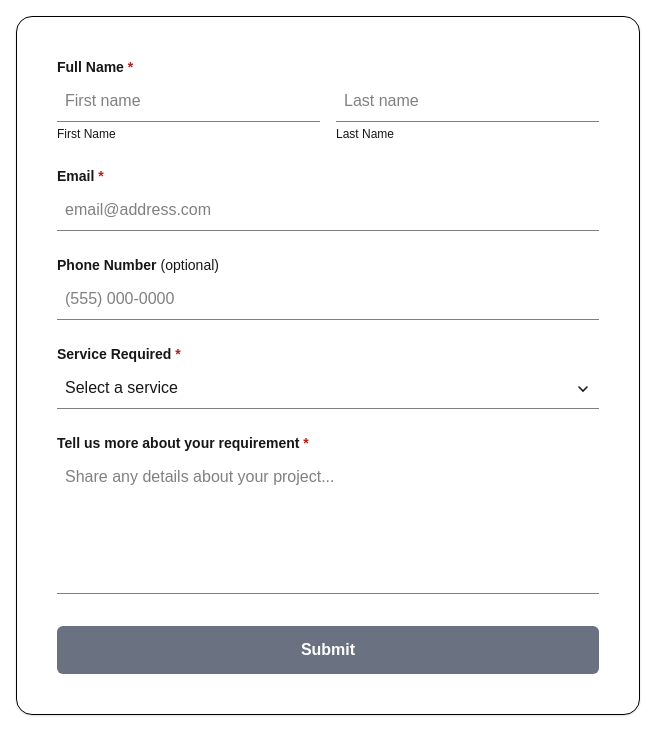
Test: ContactForm › submit button enables once all required fields contain valid data
The image size is (657, 733).
Type "James" into the field with placeholder "First Name" at (188, 102), box x1=57 y1=81 x2=320 y2=122
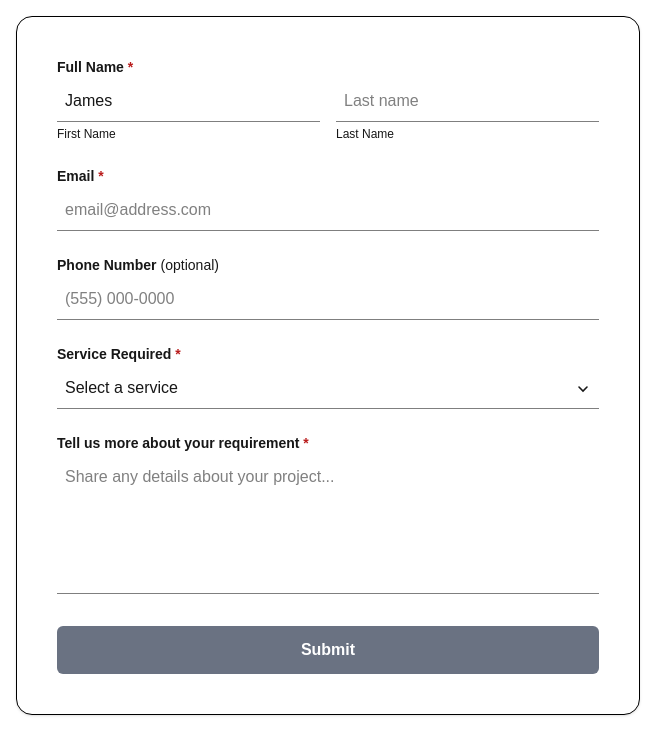
Type "Thomas" into the field with placeholder "Last Name" at (468, 102), box x1=336 y1=81 x2=599 y2=122
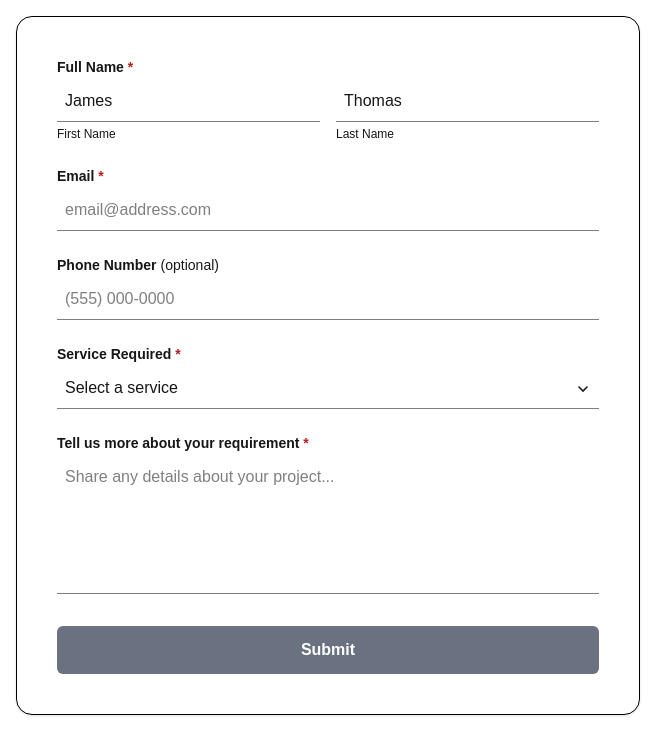
Type "james@example.com" into the field with placeholder "email@address.com" at (328, 210), box x1=57 y1=190 x2=599 y2=231
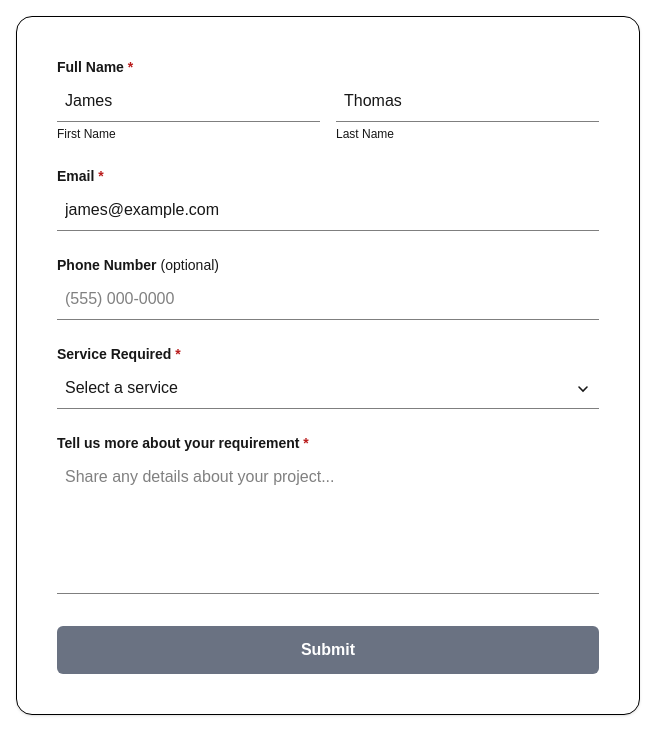
Select "Documentary Services" in the dropdown at (328, 388), box x1=57 y1=368 x2=599 y2=409
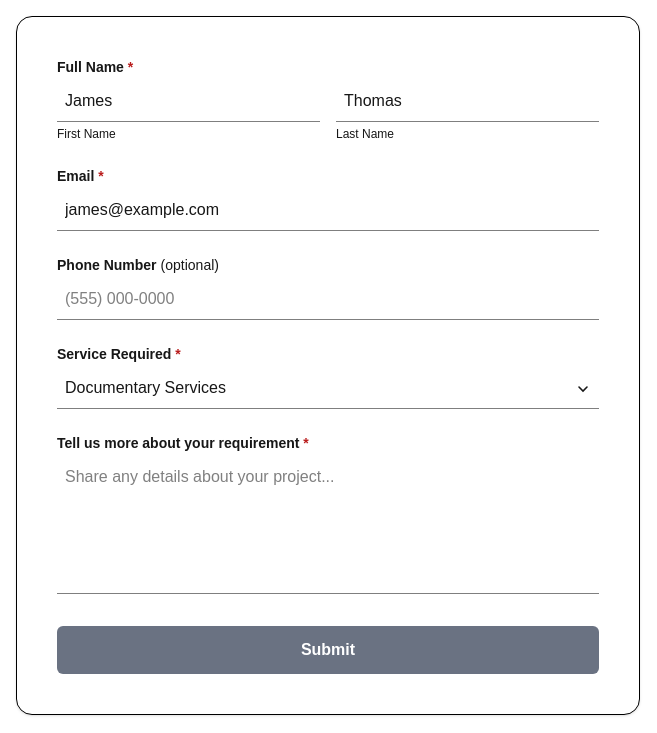
Type "I would like to book a documentary." into the text box with placeholder "Share any details about your project..." at (328, 526), box x1=57 y1=457 x2=599 y2=594
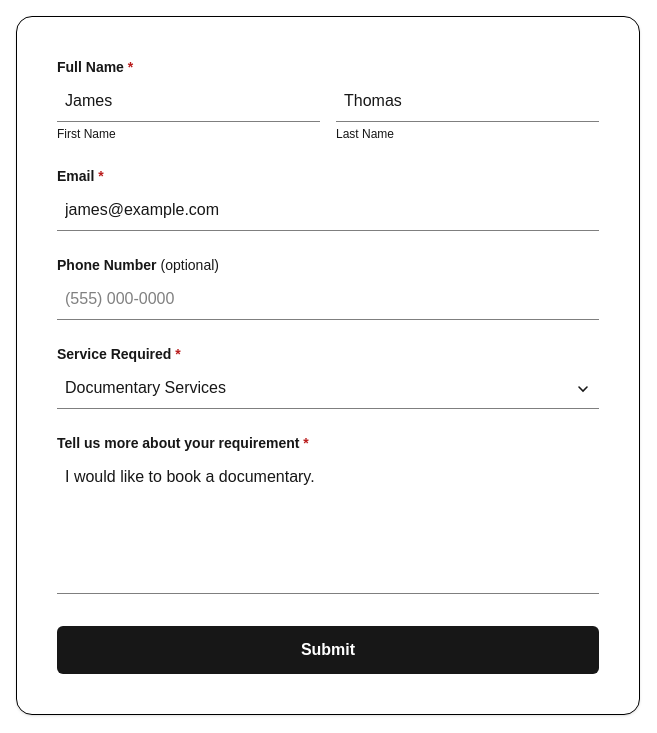
Now the button "Submit" is enabled, box x1=57 y1=626 x2=599 y2=674
